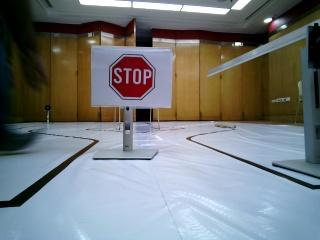stop: (99, 49, 170, 100)
